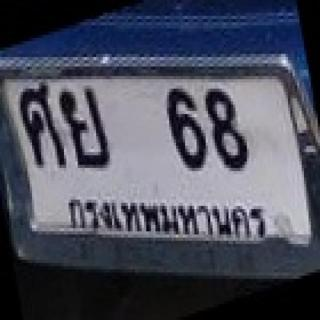A34: (58, 85, 119, 171)
A38: (14, 82, 68, 169)
N06: (162, 84, 208, 177)
N08: (204, 85, 250, 174)
P04: (65, 192, 267, 243)
